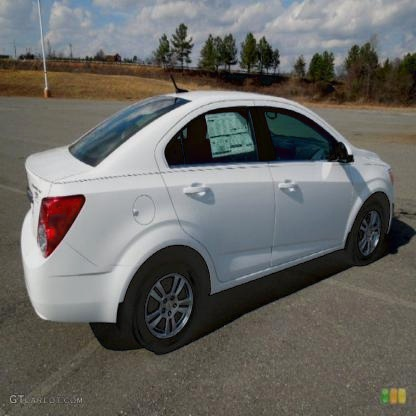Vehicle: (13, 57, 401, 356)
